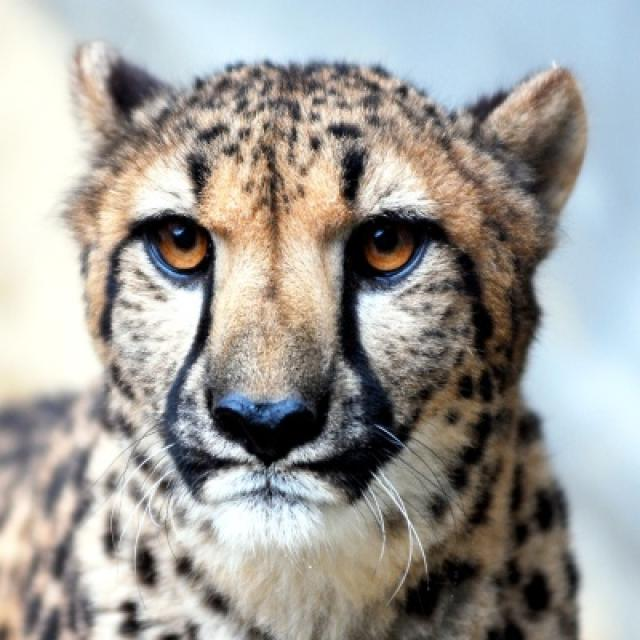Cheetah: (0, 47, 590, 638)
